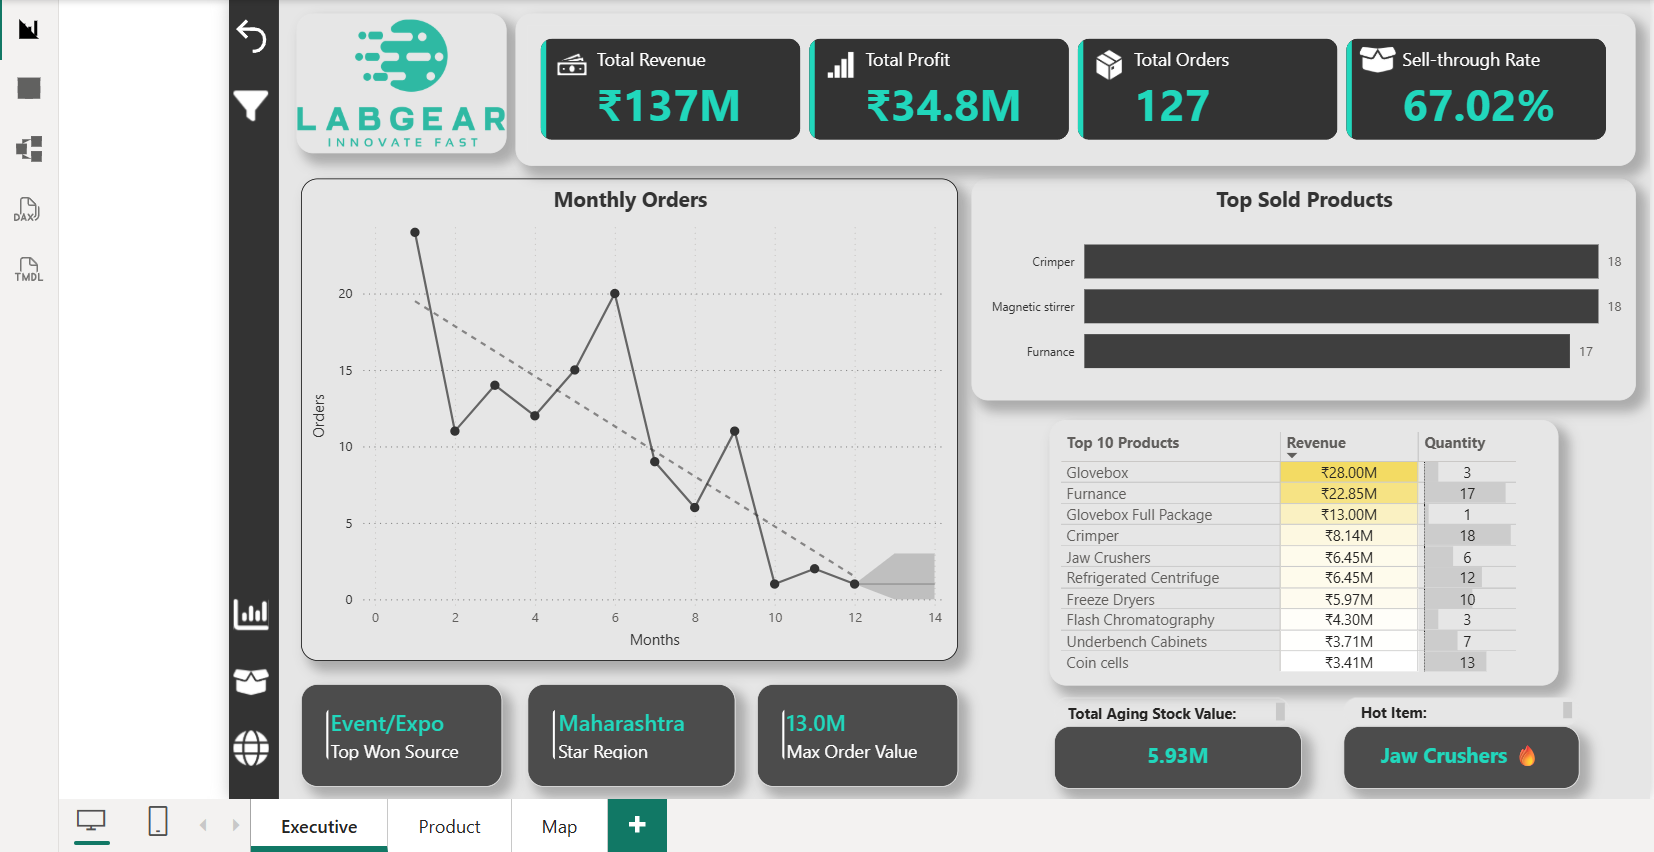

This screenshot's page, from the dashboard's own definition file:
{"tool":"powerbi","page":{"name":"Executive ","canvas":[1280,720],"ordinal":0},"visuals":[{"type":"image","title":"Labgear Logo","box":[61.4,12.6,189,126],"z":0},{"type":"actionButton","box":[0,534.3,54.9,39.8],"z":0,"group":"g2"},{"type":"cardVisual","fields":{"Data":["Meaure Table.Top Won Source"]},"box":[65.2,617.2,181.1,92.9],"z":0,"group":"g1"},{"type":"shape","title":"Left Nav background","box":[0,0,45,720.5],"z":1000},{"type":"actionButton","box":[0,594.7,54.9,39.8],"z":1000,"group":"g2"},{"type":"cardVisual","fields":{"Data":["Meaure Table.StarRegion"]},"box":[270,616.8,187.4,92.9],"z":1000,"group":"g1"},{"type":"lineChart","title":"Monthly Orders","fields":{"Category":["MasterCalendar.FinancialMonth"],"Y":["Meaure Table.TotalOrders"]},"box":[64.6,160.7,592.2,434.7],"z":2000},{"type":"cardVisual","fields":{"Data":["Meaure Table.MaxOrderValue"]},"box":[476.3,617.2,181.1,92.9],"z":2000,"group":"g1"},{"type":"actionButton","box":[0,655.1,54.9,39.8],"z":2000,"group":"g2"},{"type":"clusteredBarChart","title":"Top Sold Products","fields":{"Category":["inventory.item_description"],"Y":["Meaure Table.UnitsDepleted"]},"box":[669.4,160.7,598.5,200],"z":3000},{"type":"group","id":"g1","title":"Quick Cards","box":[65.2,616.8,592.2,93.3],"z":4000},{"type":"pivotTable","fields":{"Rows":["inventory.item_description"],"Values":["Meaure Table.TotalRevenue","Meaure Table.WonOrderQuantity"]},"box":[738.7,378,458.3,239.4],"z":5000},{"type":"cardVisual","fields":{"Data":["Meaure Table.TotalRevenue","Meaure Table.TotalProfit","Meaure Table.TotalOrders","Meaure Table.% Inventory Sold"]},"box":[258.3,12.6,1009.6,137],"z":6000},{"type":"card","fields":{"Values":["Meaure Table.AgingStockValue"]},"box":[743.9,653.7,223.7,56.7],"z":7000},{"type":"textbox","box":[743.9,628.5,212.6,25.2],"z":8000},{"type":"card","fields":{"Values":["Meaure Table.HotItemName"]},"box":[1003.8,653.7,212.6,56.7],"z":9000},{"type":"textbox","box":[1004.9,628.5,212.6,25.2],"z":10000},{"type":"actionButton","box":[0,12.2,44.6,40.6],"z":11000},{"type":"group","id":"g2","title":"Navigation Buttons","box":[0,534.3,54.9,160.6],"z":12000},{"type":"actionButton","box":[0,75.6,45.7,39.4],"z":13000}]}

Visuals, with their boxes on the page's 1280x720 design canvas (x1, y1, x2, y2). These are canvas units, not pixel positions in the 1654x852 screenshot, which may show the page scaled, cropped or inside an application window:
"Labgear Logo" image: <region>61, 13, 250, 139</region>
actionButton: <region>0, 534, 55, 574</region>
cardVisual - Meaure Table.Top Won Source: <region>65, 617, 246, 710</region>
"Left Nav background" shape: <region>0, 0, 45, 720</region>
actionButton: <region>0, 595, 55, 634</region>
cardVisual - Meaure Table.StarRegion: <region>270, 617, 457, 710</region>
"Monthly Orders" lineChart: <region>65, 161, 657, 595</region>
cardVisual - Meaure Table.MaxOrderValue: <region>476, 617, 657, 710</region>
actionButton: <region>0, 655, 55, 695</region>
"Top Sold Products" clusteredBarChart: <region>669, 161, 1268, 361</region>
"Quick Cards" group: <region>65, 617, 657, 710</region>
pivotTable - inventory.item_description x Meaure Table.TotalRevenue: <region>739, 378, 1197, 617</region>
cardVisual - Meaure Table.TotalRevenue x Meaure Table.TotalProfit: <region>258, 13, 1268, 150</region>
card - Meaure Table.AgingStockValue: <region>744, 654, 968, 710</region>
textbox: <region>744, 628, 956, 654</region>
card - Meaure Table.HotItemName: <region>1004, 654, 1216, 710</region>
textbox: <region>1005, 628, 1218, 654</region>
actionButton: <region>0, 12, 45, 53</region>
"Navigation Buttons" group: <region>0, 534, 55, 695</region>
actionButton: <region>0, 76, 46, 115</region>
